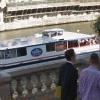Boat: (0, 26, 95, 70)
